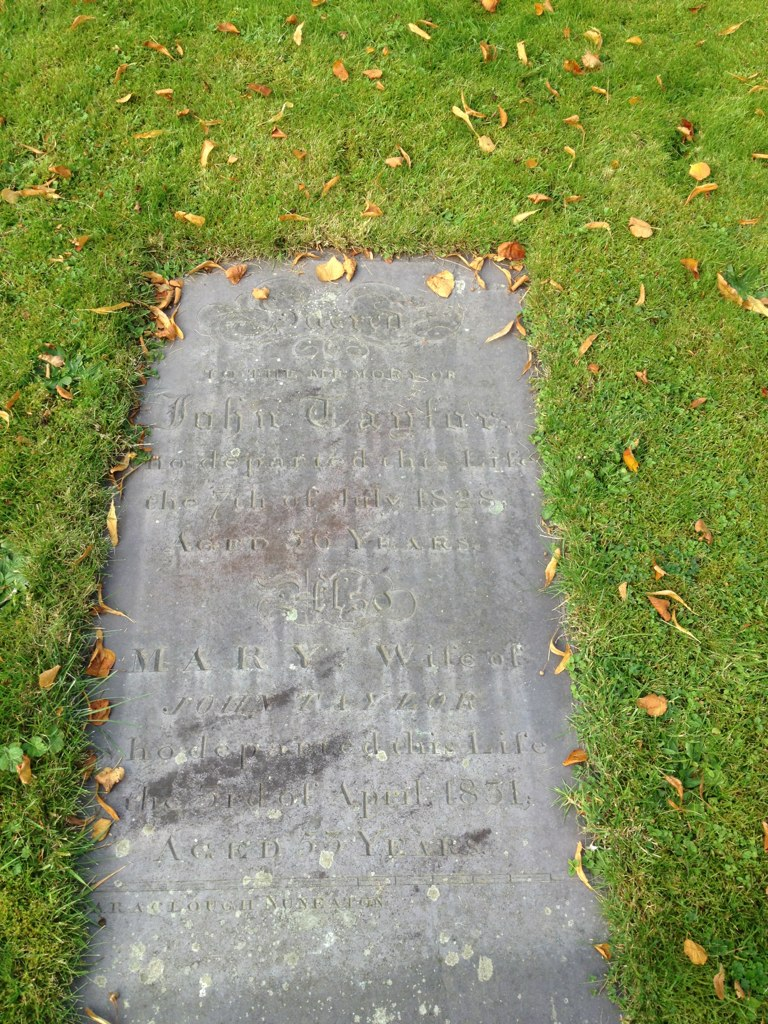flat: (80, 232, 619, 1018)
